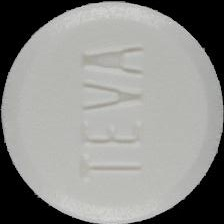66116-427: (0, 0, 224, 224)
